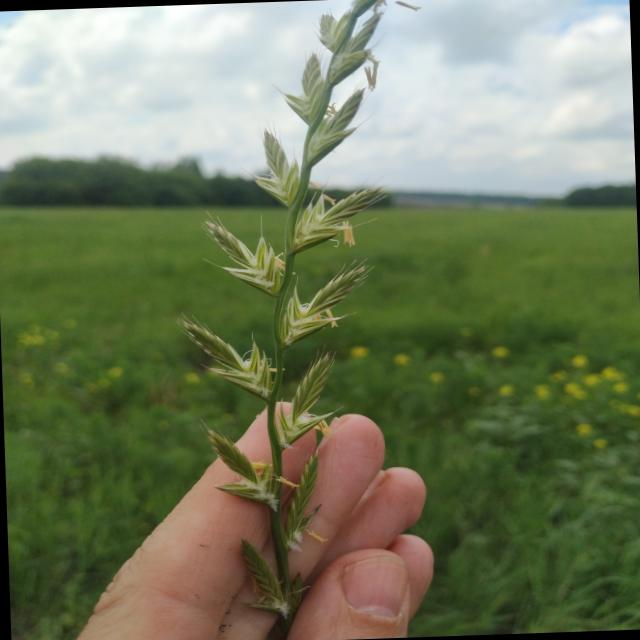Lolium: (164, 0, 441, 638)
